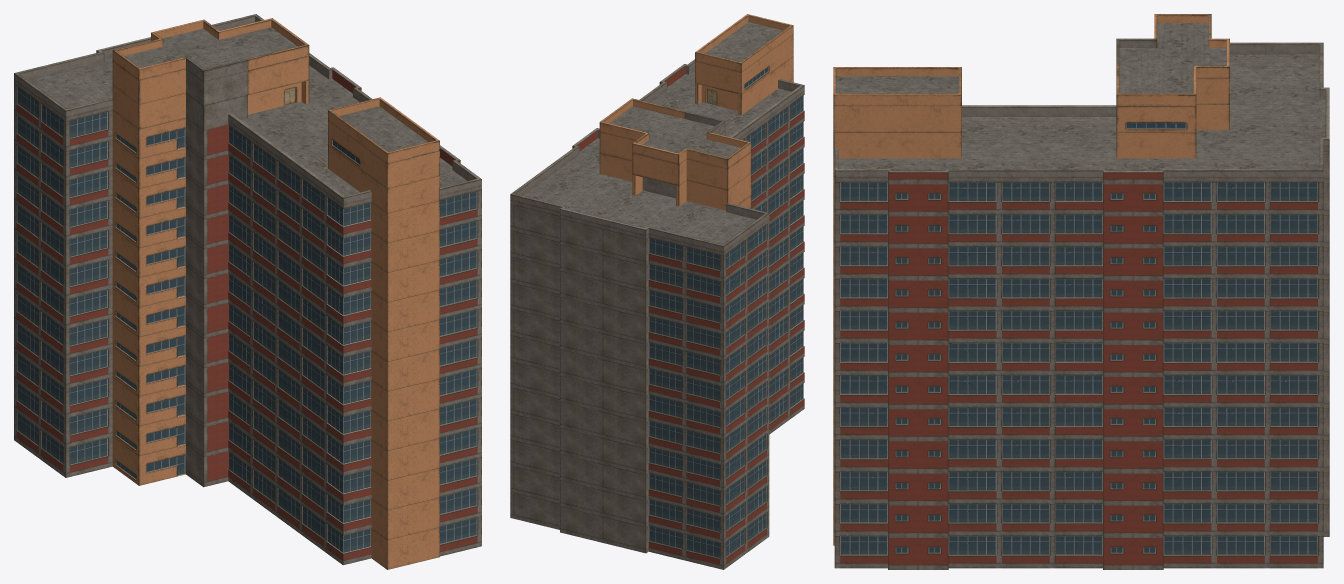
The model's file is old_office_building.glb.
3 views of the same model, side by side, from view 1: azimuth 30°, elevation 25°; view 2: azimuth 150°, elevation 25°; view 3: azimuth 270°, elevation 25° (orthographic). The views are drawn at different scales.
Parts seen in each view (by area): view 1: Old_Office; view 2: Old_Office; view 3: Old_Office.
Part boxes in pixels (box(x1,y1,x2,y2)): Old_Office: box(14, 14, 481, 569); Old_Office: box(510, 14, 804, 569); Old_Office: box(833, 14, 1329, 569).
Size of the model in its own units: 1.24 by 2 by 2.
4 materials, 4 textured.
